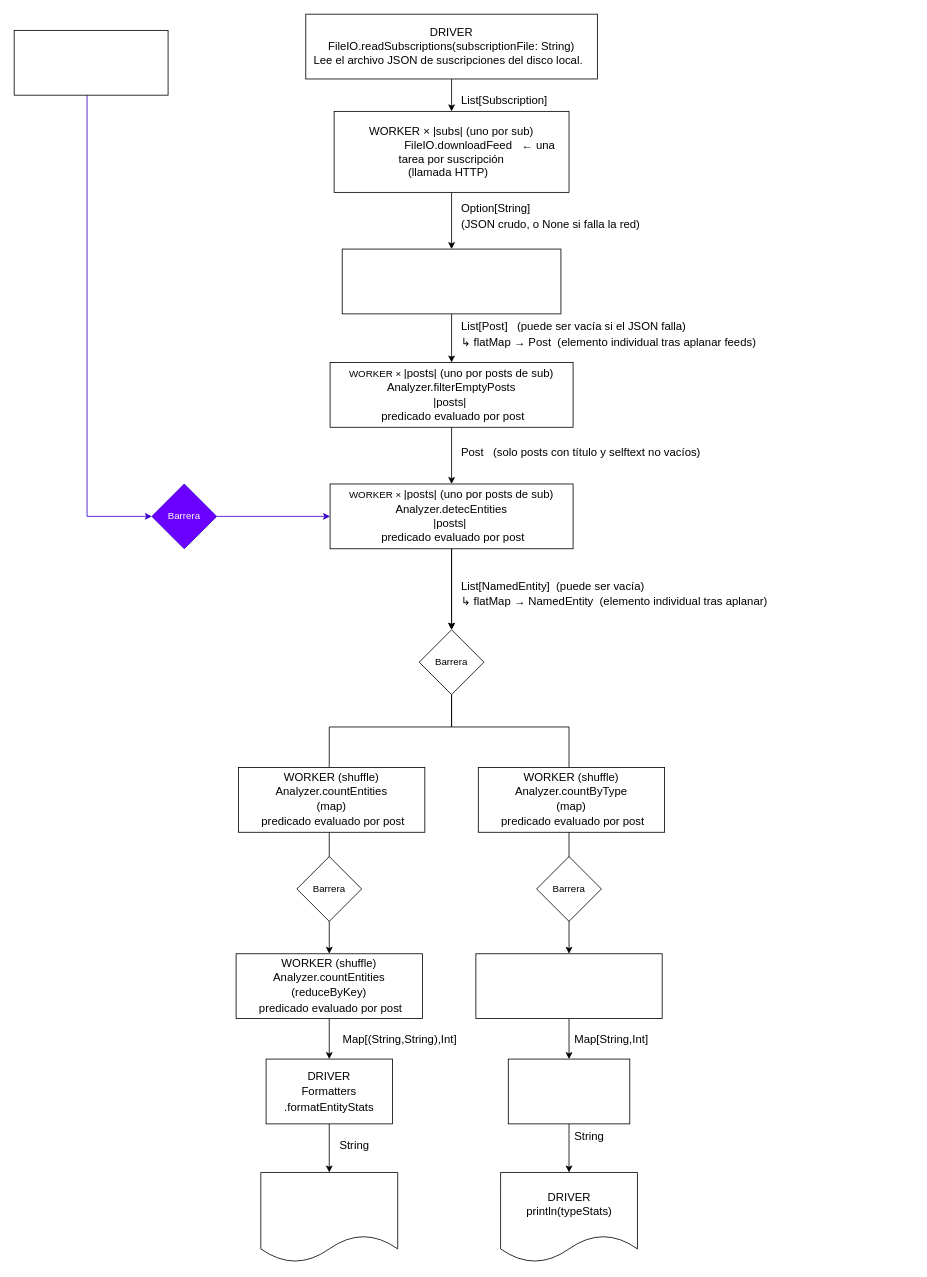
The diagram is 927 pixels wide and 1277 high, and some of its shapes have lost their labels. The centre of each missing label's shape, as x and y in pixels:
"DRIVER Dictionary.loadAll Lee archivos .txt del sistema de archivos." belongs at [90,62].
"DRIVER Formatters .formatTypeStats" belongs at [568,1091].
"DRIVER println( entityStats )" belongs at [329,1217].
"WORKER (shuffle) Analyzer.countByType (reduceByKey) predicado evaluado por post" belongs at [568,986].
"WORKER × |subs| (uno por sub) JsonParser.parsePosts una tarea por feed exitoso" belongs at [451,281].
